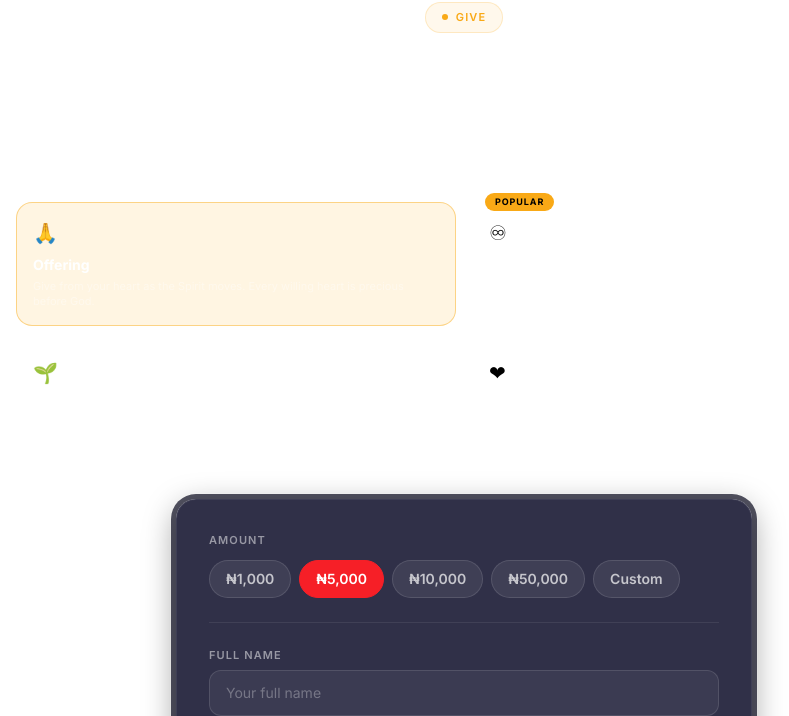
Test: GiveSection › shows email validation error on invalid email
This screenshot has width=789, height=716.
In the field labelled "Full Name": (464, 692) [209, 670, 719, 715], type "Joshua"
(page scrolled)
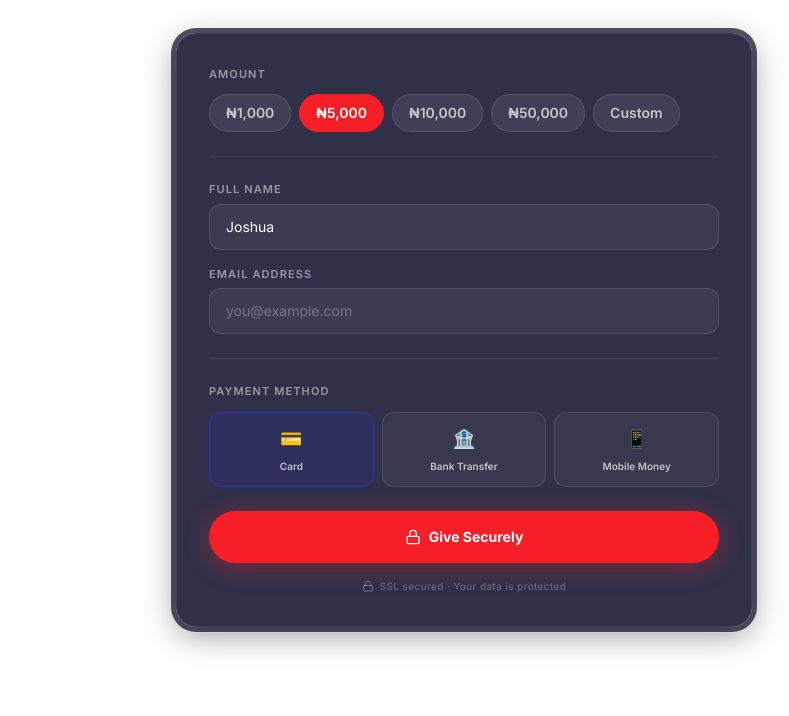
In the field labelled "Email Address": (464, 311) [209, 288, 719, 334], type "bad-email"
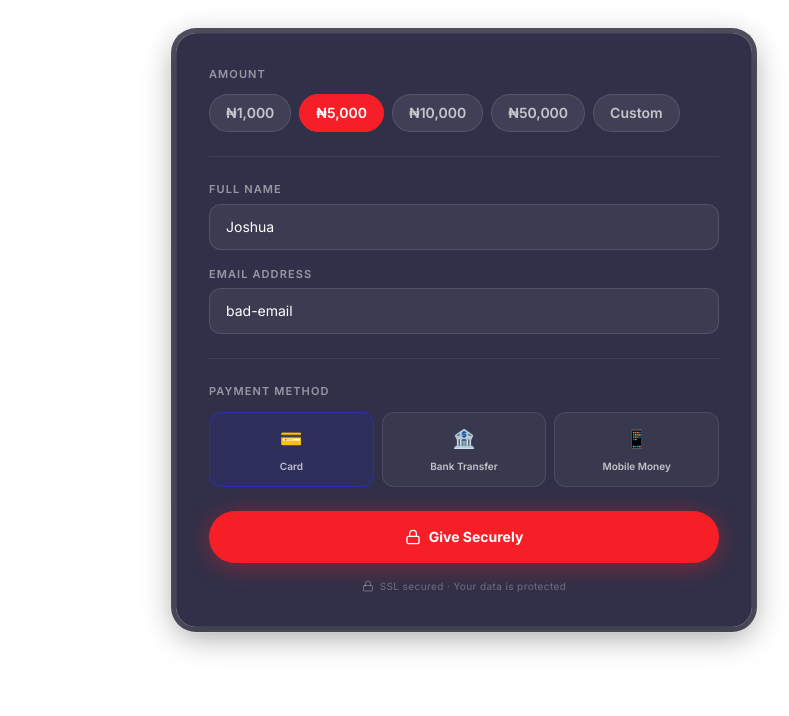
Click the button "Give Securely": (464, 536) [209, 510, 719, 562]
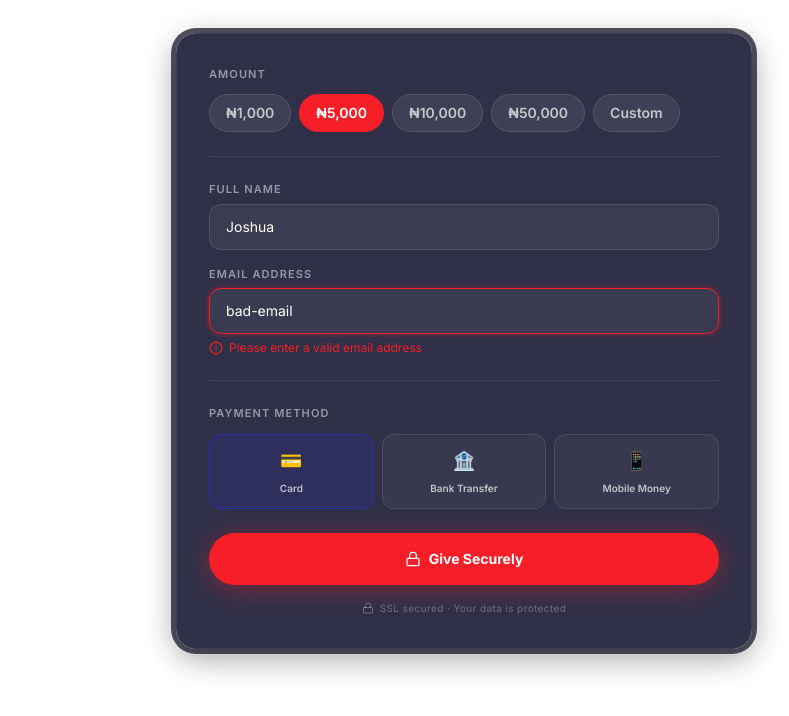
Result: the text "Please enter a valid email address" is shown at [209, 340, 422, 355]
